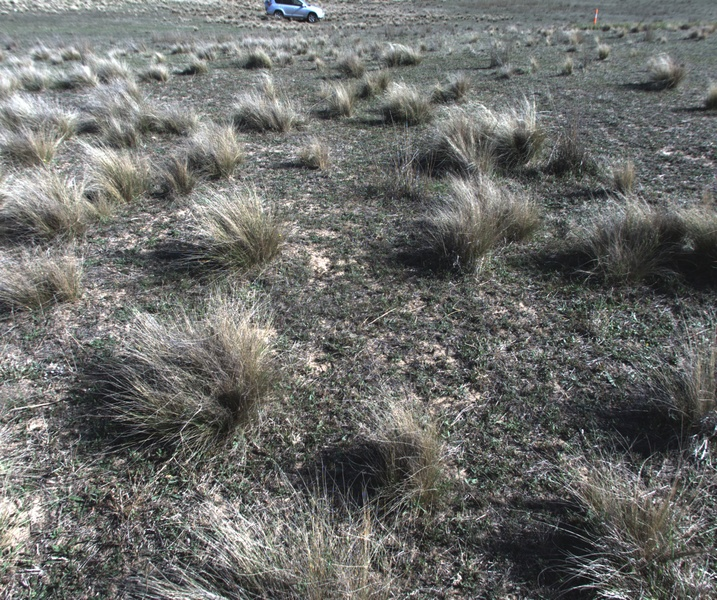st: (187, 502, 392, 600), (118, 314, 272, 442), (558, 480, 717, 600), (351, 395, 451, 523), (422, 178, 536, 272), (586, 204, 657, 292), (647, 354, 717, 439), (211, 198, 277, 272), (7, 172, 72, 232), (1, 259, 80, 305), (91, 149, 139, 224), (674, 201, 717, 277), (238, 85, 307, 129), (446, 117, 494, 180), (504, 109, 549, 173), (93, 86, 139, 127), (212, 129, 248, 181), (160, 153, 198, 202), (11, 127, 54, 170), (644, 51, 687, 91), (292, 136, 336, 174), (159, 102, 206, 136), (91, 55, 132, 92), (17, 104, 67, 134), (383, 83, 423, 120), (94, 122, 141, 151), (323, 77, 350, 119), (606, 160, 639, 193), (434, 75, 469, 101), (245, 47, 277, 75), (390, 46, 420, 67), (143, 66, 170, 86), (310, 51, 330, 74), (19, 71, 43, 90), (186, 57, 207, 77), (597, 41, 614, 64), (341, 55, 363, 72), (377, 69, 390, 97), (559, 56, 577, 76), (56, 46, 78, 62), (704, 82, 717, 106), (31, 45, 50, 61), (362, 75, 374, 99), (528, 53, 538, 76), (278, 50, 289, 66), (148, 51, 159, 62)
